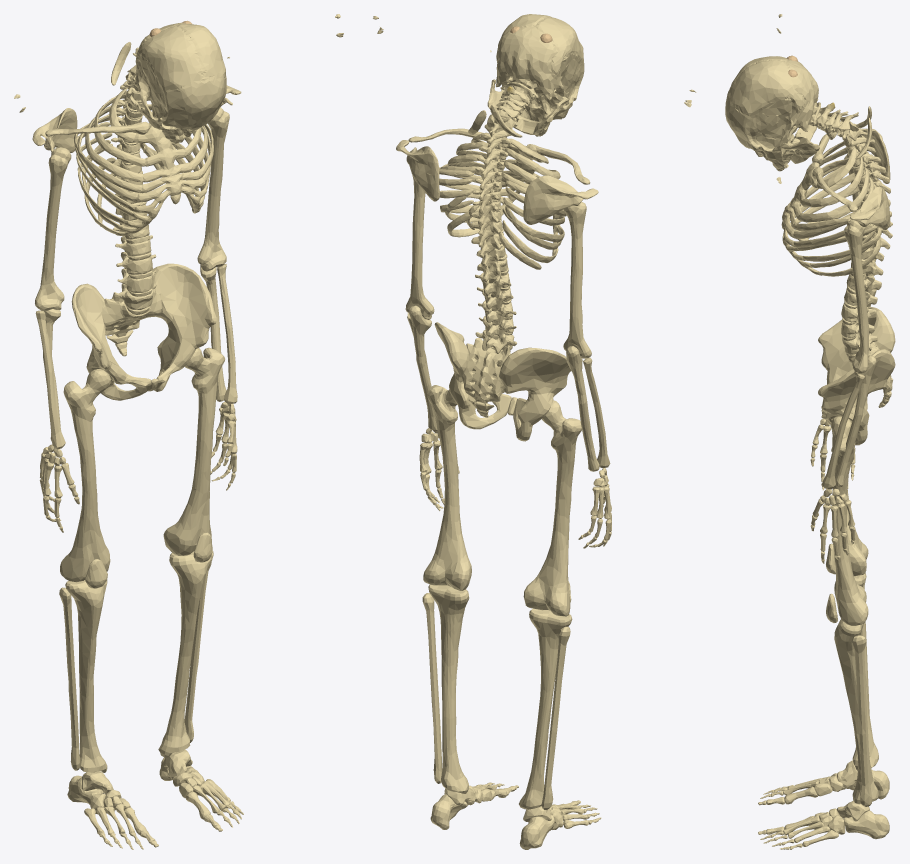
Rendered from PoseEsqueletoColgado.fbx.
3 views of the same model, side by side, from view 1: azimuth 30°, elevation 25°; view 2: azimuth 150°, elevation 25°; view 3: azimuth 270°, elevation 25° (orthographic). The views are drawn at different scales.
Parts seen in each view (by area): view 1: Esqueleto; view 2: Esqueleto; view 3: Esqueleto.
Boxes of the visible parts, x1=… form: Esqueleto: x1=14, y1=14, x2=343, y2=849; Esqueleto: x1=373, y1=14, x2=696, y2=849; Esqueleto: x1=725, y1=14, x2=895, y2=849.
Bounding box in the file's own units: 3.59 × 8.38 × 1.7.
